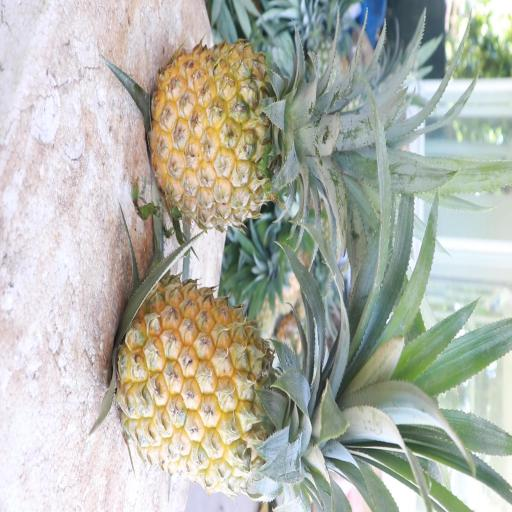Pineapple - v8 v1: (112, 278, 370, 495), (146, 35, 352, 234)
